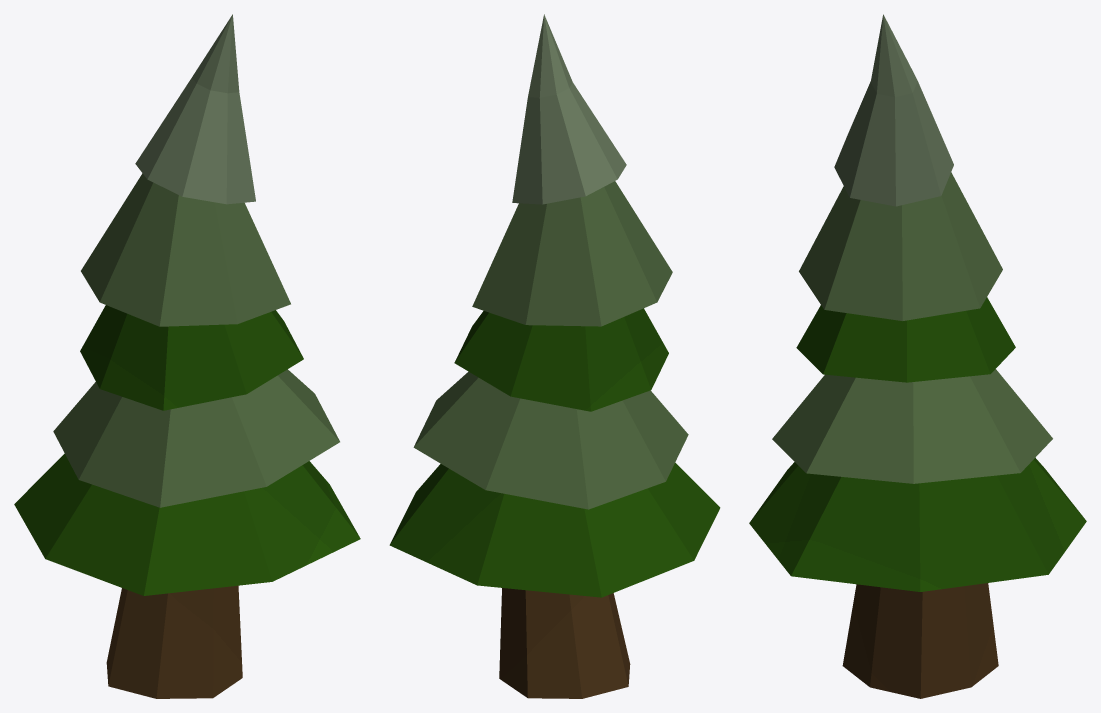
File: tree2.fbx
3 views of the same model, side by side, from view 1: azimuth 30°, elevation 25°; view 2: azimuth 150°, elevation 25°; view 3: azimuth 270°, elevation 25° (orthographic). The views are drawn at different scales.
Parts seen in each view (by area): view 1: Plane.007; view 2: Plane.007; view 3: Plane.007.
Part boxes in pixels (bbox=[...]): Plane.007: bbox=[14, 14, 360, 698]; Plane.007: bbox=[389, 14, 720, 698]; Plane.007: bbox=[749, 14, 1086, 698].
Size of the model in its own units: 725 by 1593 by 726.
